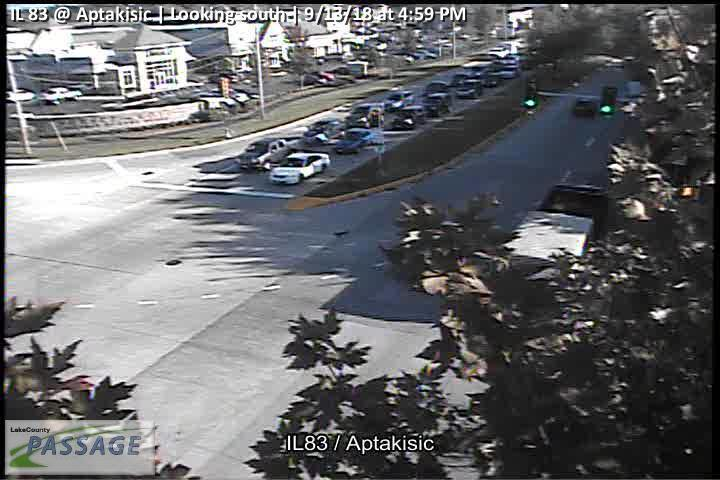Bus: (504, 180, 608, 307)
Sedan: (269, 151, 331, 185), (336, 128, 373, 154)
Truck: (235, 136, 305, 174)
